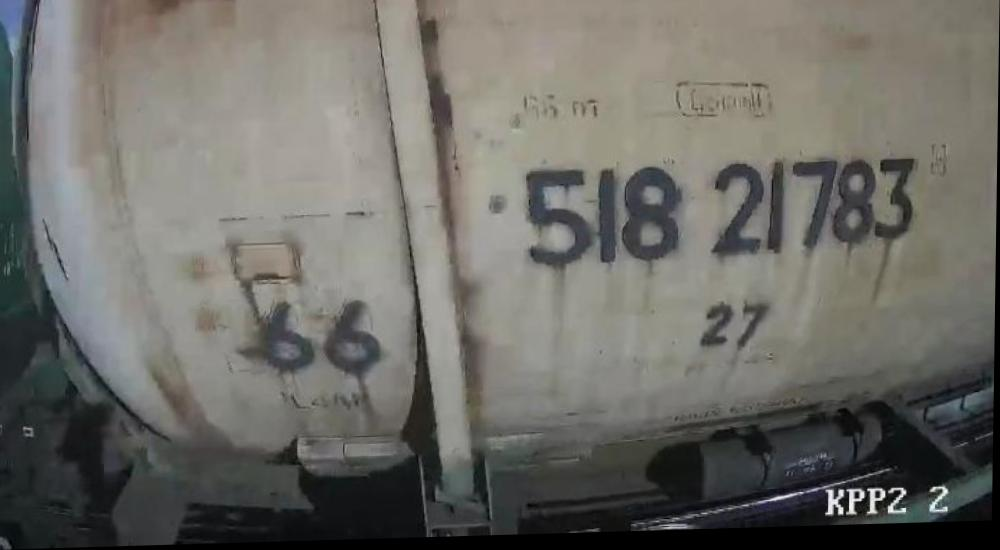Wagon-number: (518, 157, 924, 277)
